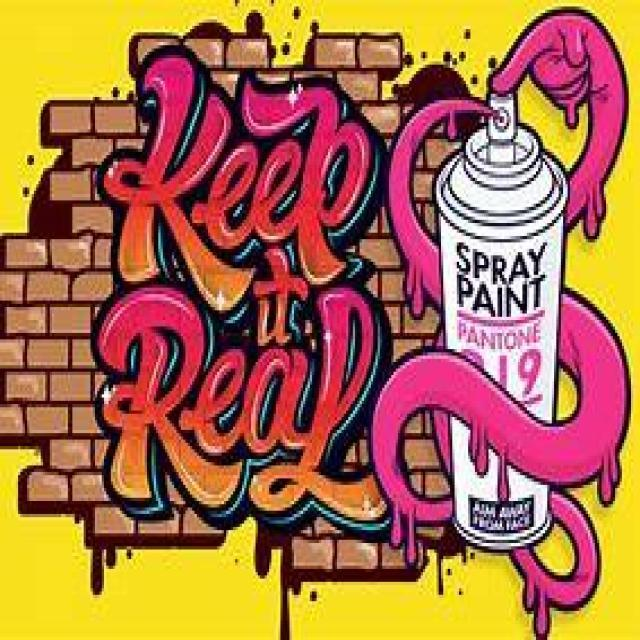nonspitting: (0, 16, 631, 617)
